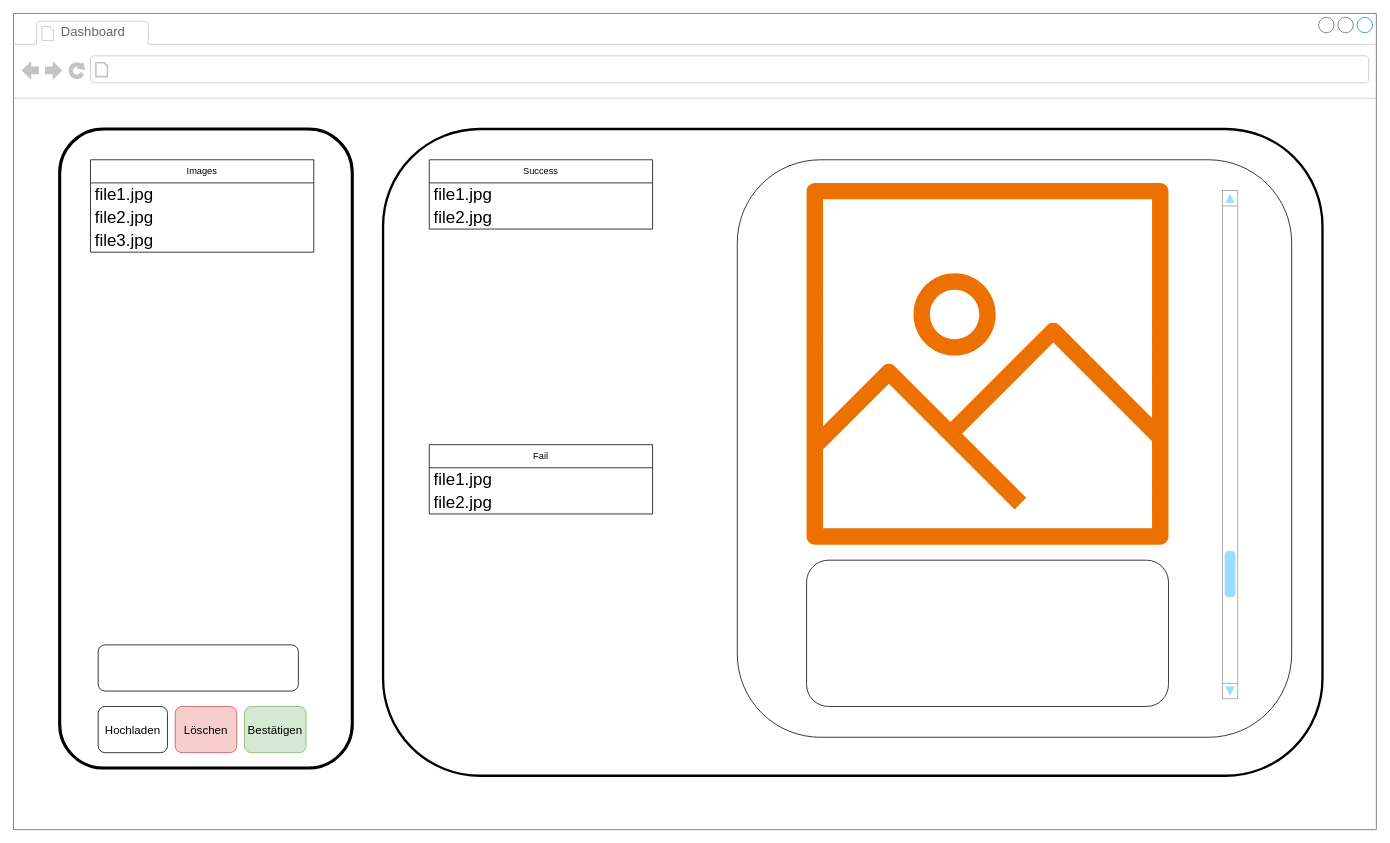
The diagram is 1390 pixels wide and 843 high, and some of its shapes have lost their labels. The shapes that lost their labels are listed below. From the top down, each one's centre as x and y in pixels, then its label:
At [209,69]: "https://www.draw.io".
At [987,632]: "Fehlerbeschreibung Erkannte Daten + Bearbeitung".
At [197,667]: "prompt_file.md".
